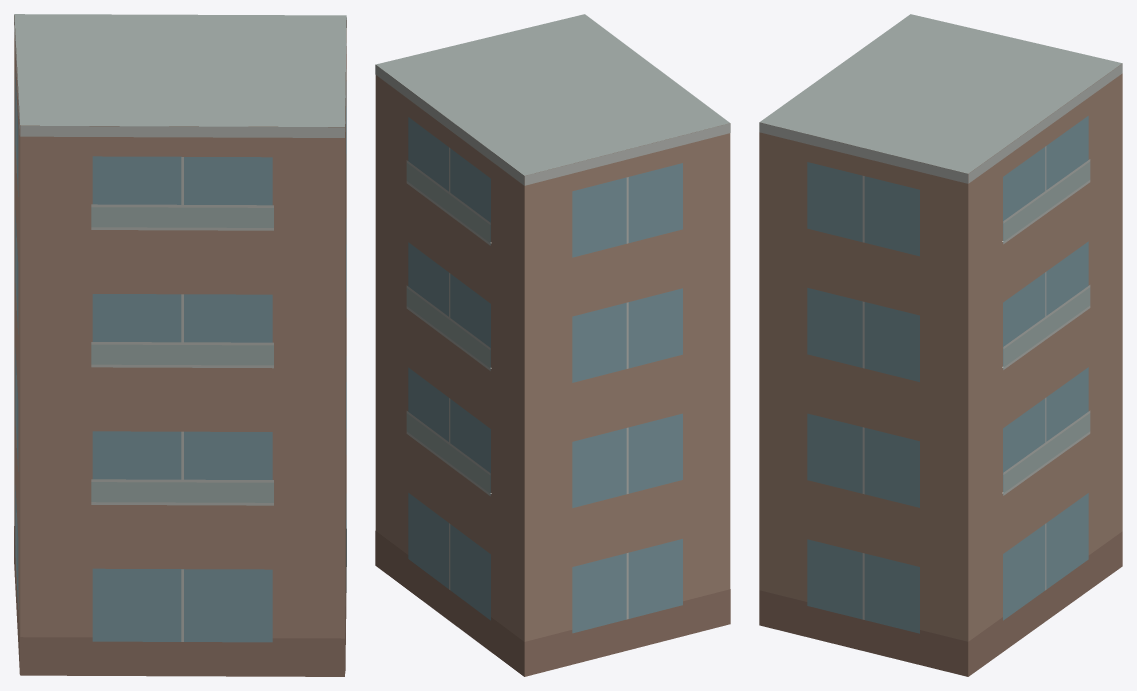
Rendered from survey-upis-32550404.glb.
3 renders of one model, left to right at view 1: azimuth 30°, elevation 25°; view 2: azimuth 150°, elevation 25°; view 3: azimuth 270°, elevation 25°, orthographic. The views are drawn at different scales.
Visible parts, largest first — view 1: survey-upis-32550404.tmp; view 2: survey-upis-32550404.tmp; view 3: survey-upis-32550404.tmp.
Part boxes in pixels (box(x1,y1,x2,y2)): survey-upis-32550404.tmp: box(14, 14, 346, 676); survey-upis-32550404.tmp: box(375, 14, 730, 676); survey-upis-32550404.tmp: box(759, 14, 1122, 676).
Bounding box in the file's own units: 8.32 × 12.2 × 7.99.
